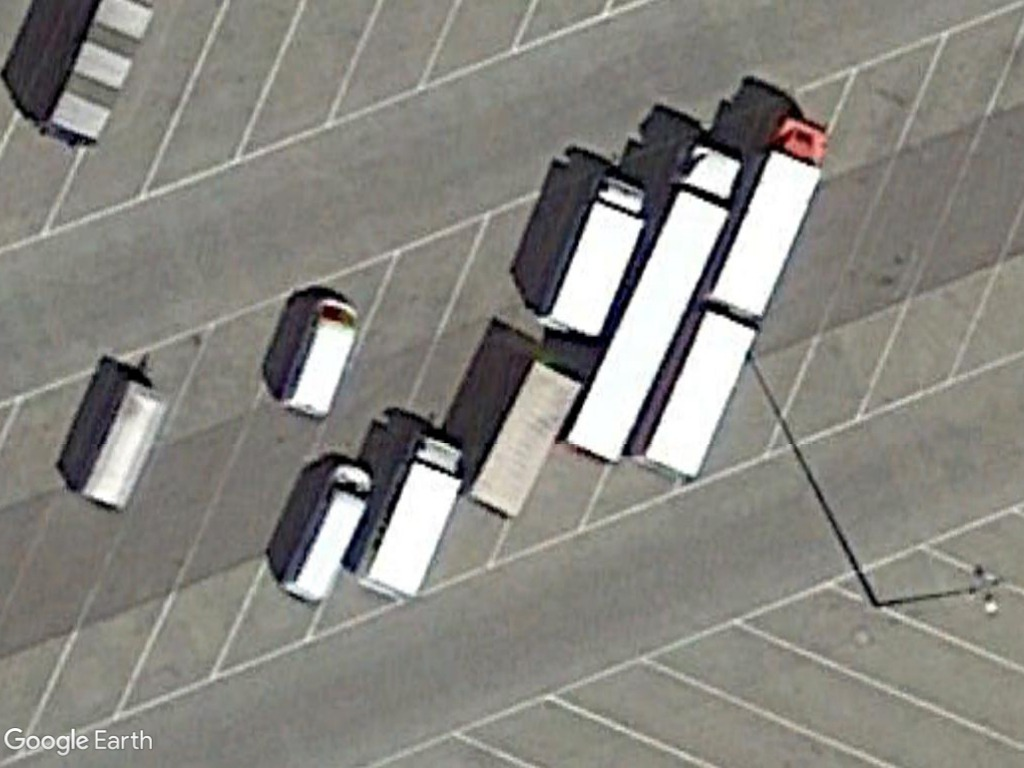longvehicle: (558, 140, 743, 473), (630, 308, 763, 492), (463, 354, 582, 529)
truck: (705, 112, 840, 318), (357, 428, 472, 606), (534, 169, 651, 340)
van: (274, 462, 377, 608), (276, 294, 361, 423)
